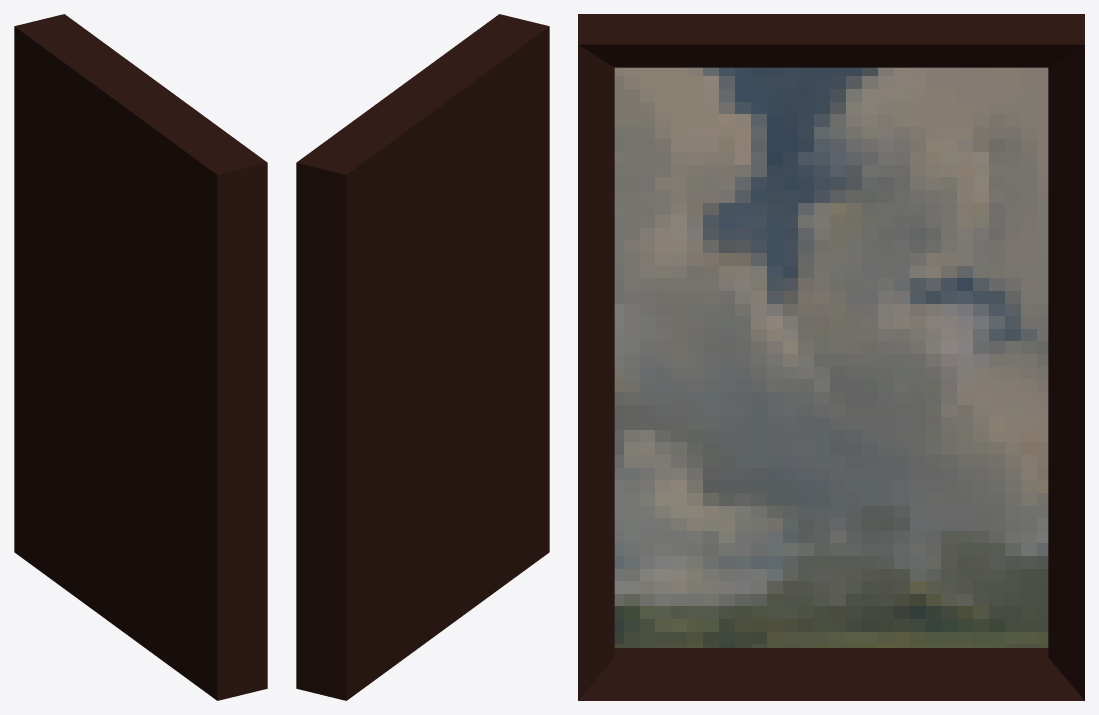
Rendered from Quadro 4.1.fbx.
3 views of the same model, side by side, from view 1: azimuth 30°, elevation 25°; view 2: azimuth 150°, elevation 25°; view 3: azimuth 270°, elevation 25° (orthographic). The views are drawn at different scales.
Visible parts, largest first — view 1: Cube.035; view 2: Cube.035; view 3: Cube.035.
Boxes of the visible parts, box(x1,y1,x2,y2) form: Cube.035: box(14, 14, 267, 700); Cube.035: box(296, 14, 549, 700); Cube.035: box(578, 14, 1084, 700).
Bounding box in the file's own units: 5 × 50 × 35.
